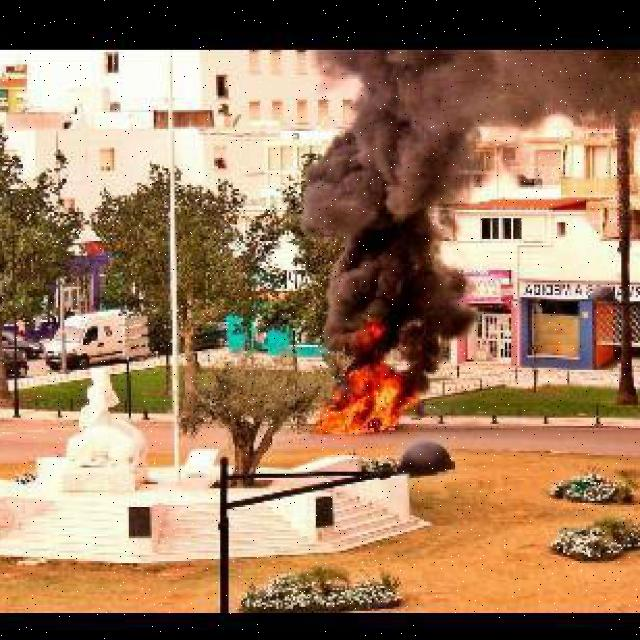fire: (310, 360, 434, 430), (336, 312, 391, 347)
smoke: (285, 48, 476, 355), (476, 48, 600, 137)
